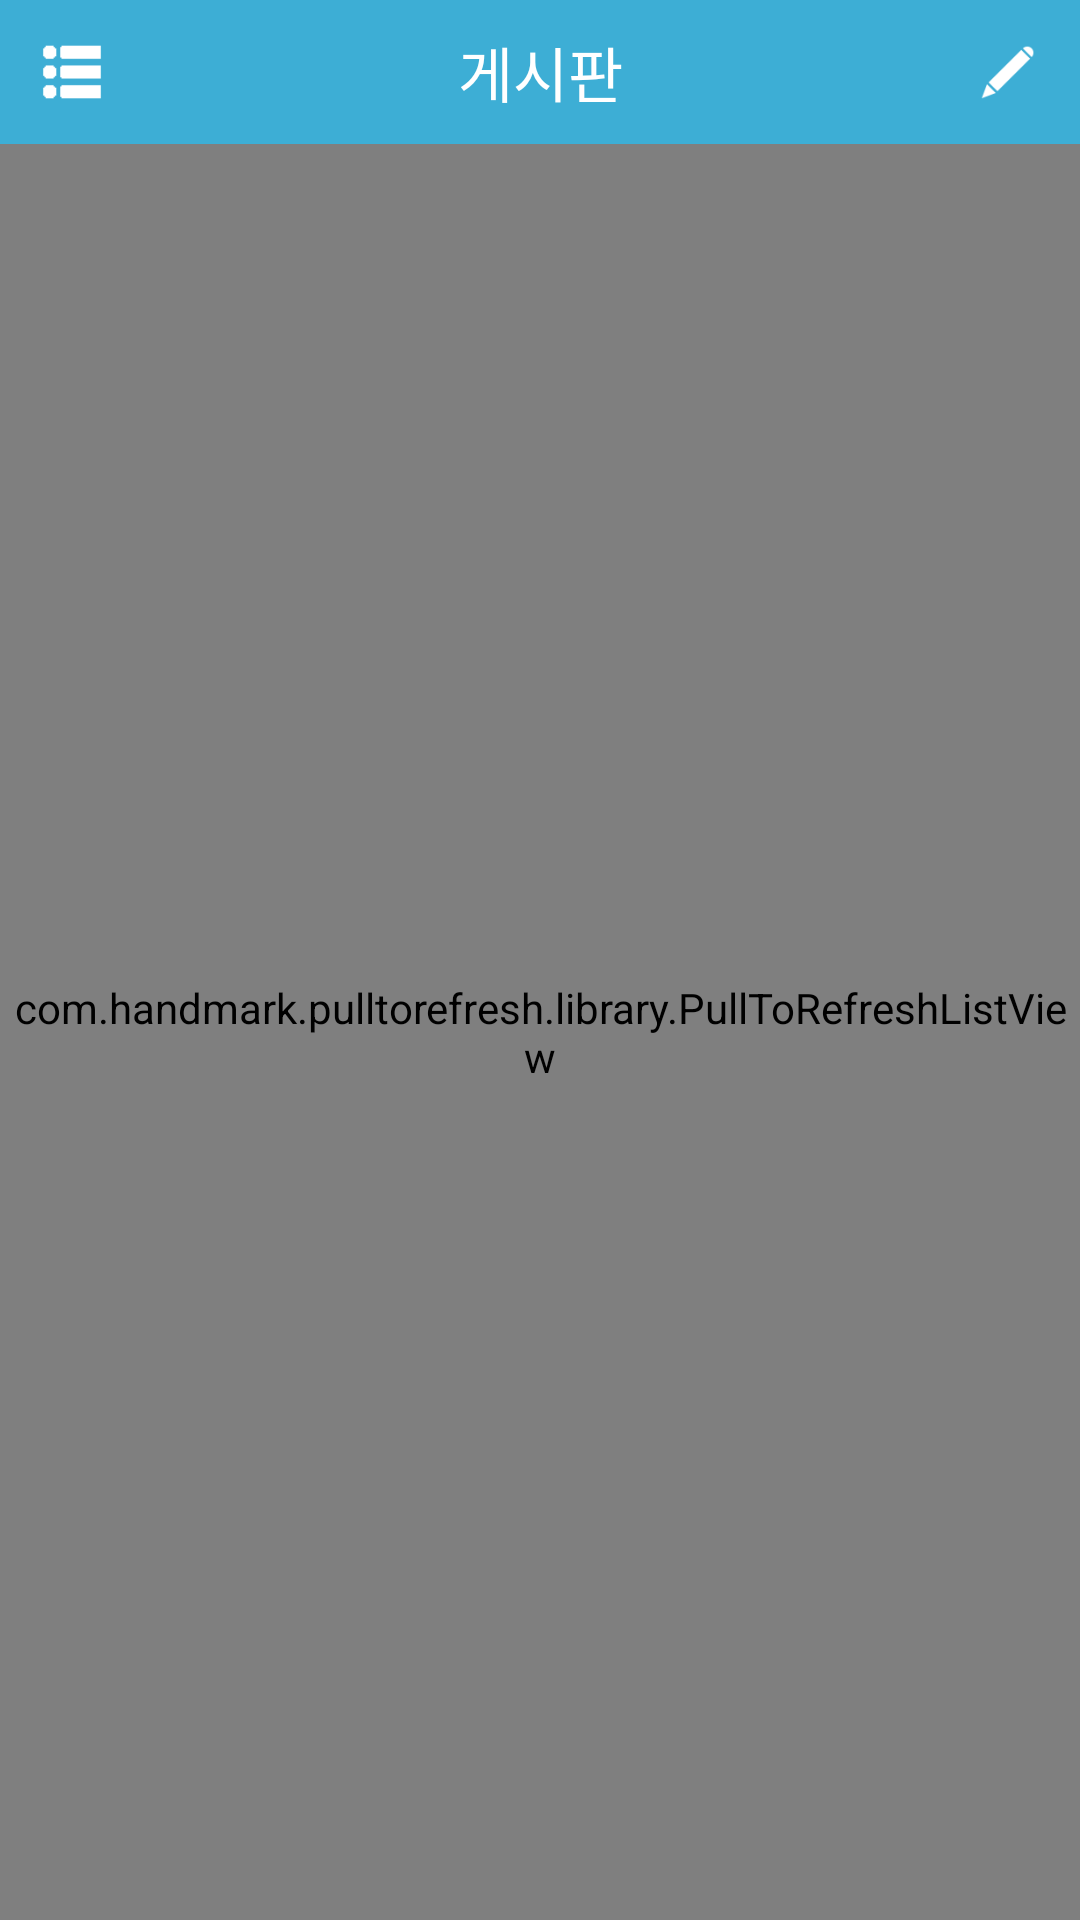

Icons on this 1080px x 1920px Android screen, each with the point to tap as (x,y):
menu: (72,72)
write: (1008,72)
